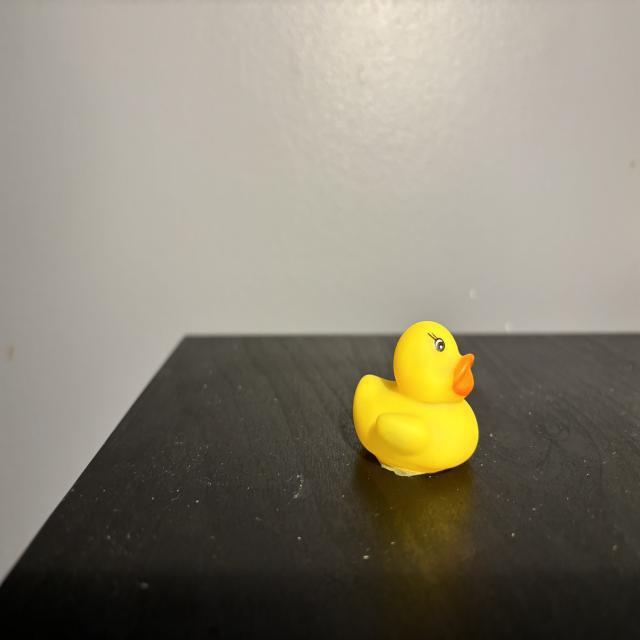duck_regular: (354, 322, 480, 478)
